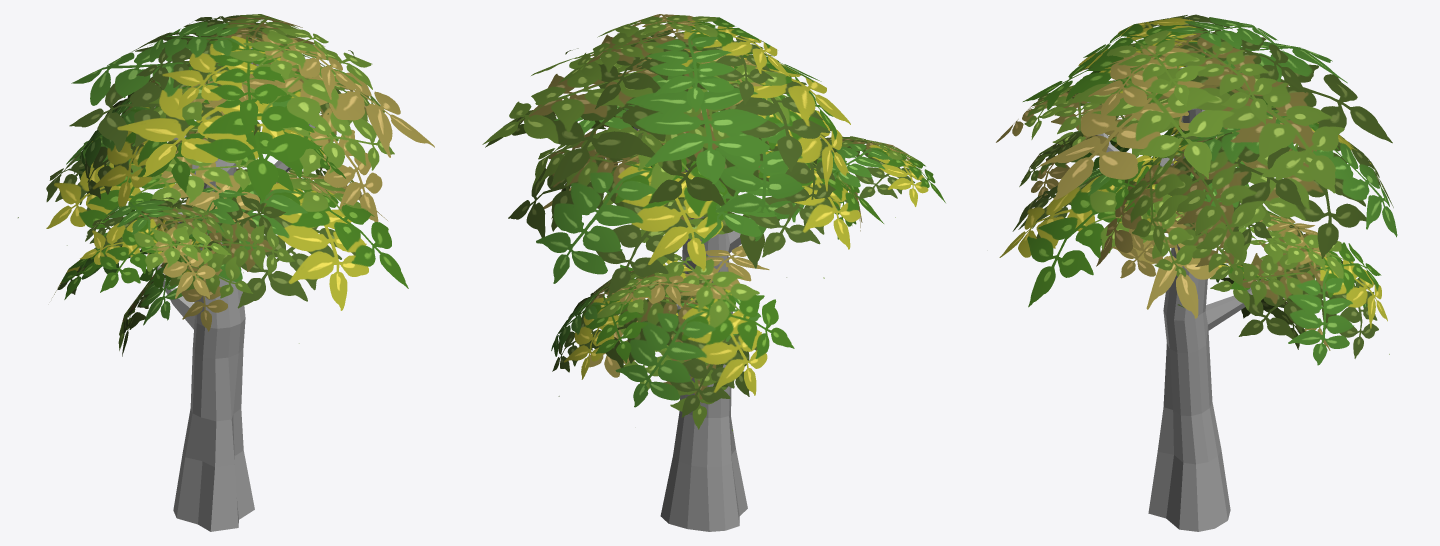
The model's file is 3.5m_tree.fbx.
3 renders of one model, left to right at view 1: azimuth 30°, elevation 25°; view 2: azimuth 150°, elevation 25°; view 3: azimuth 270°, elevation 25°, orthographic. The views are drawn at different scales.
Parts seen in each view (by area): view 1: pCylinder16; view 2: pCylinder16; view 3: pCylinder16.
Boxes of the visible parts, x1=… form: pCylinder16: x1=18, y1=14, x2=434, y2=531; pCylinder16: x1=482, y1=14, x2=945, y2=531; pCylinder16: x1=996, y1=14, x2=1397, y2=531.
Bounding box in the file's own units: 3.2 × 3.65 × 3.02.
Materials: 2 (1 with a texture image).
